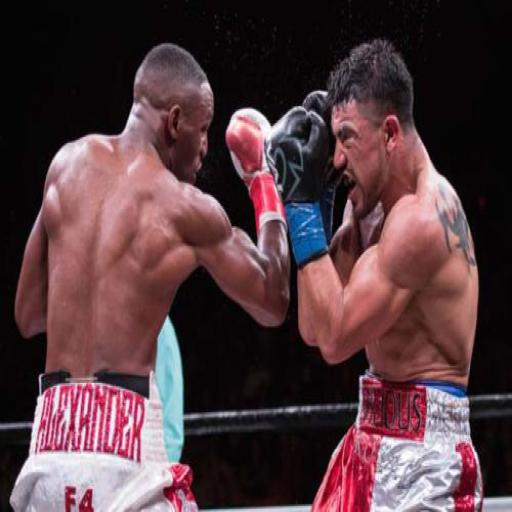boxing: (8, 40, 292, 510)
